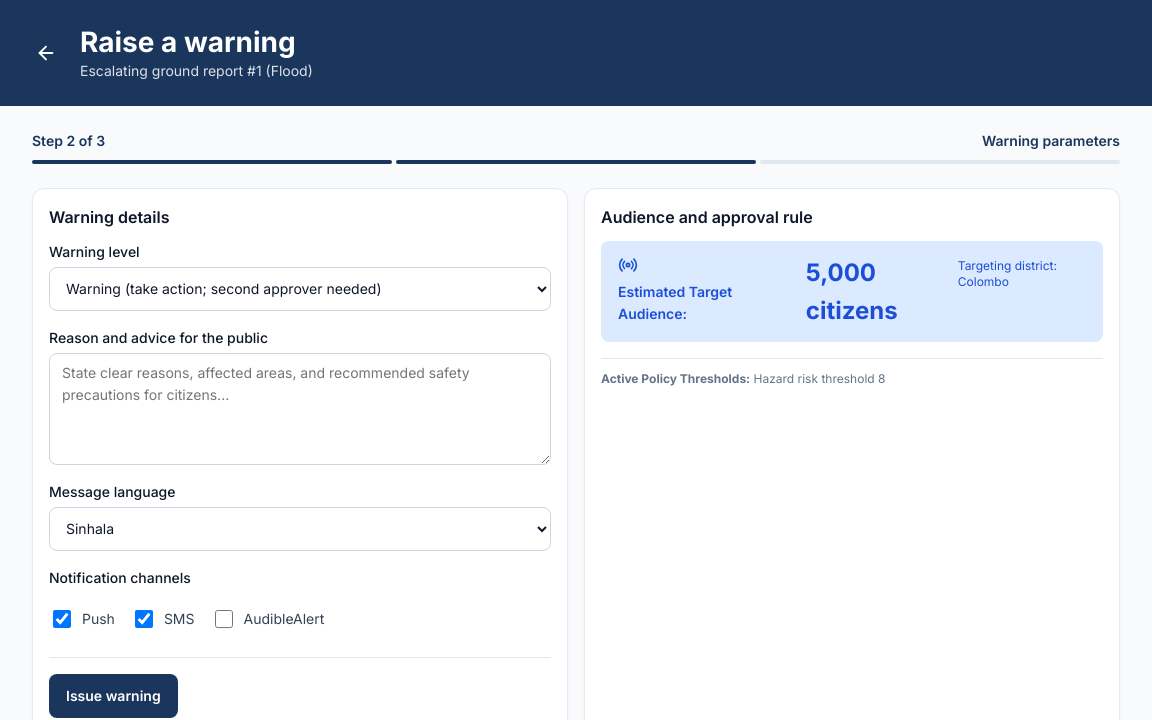
Scenario: WarningPreviewPage › should block a short reason and an empty channel list
Click the button "Issue warning". click: (113, 696)
box: [49,674,178,718]
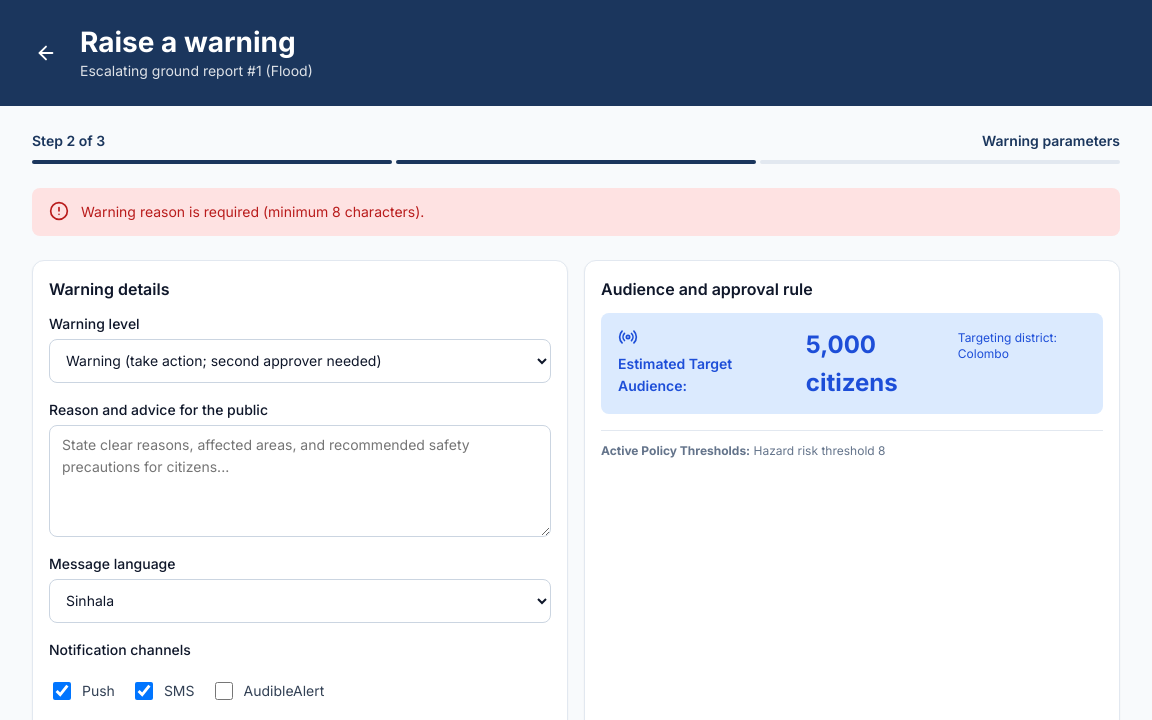
Expected: the text "Warning reason is required (minimum 8 characters)." is shown, [81,203,424,220]
Type "Water is over the road" into the text box labelled "Reason and advice for the public". click: (300, 481)
box: [49,425,551,537]
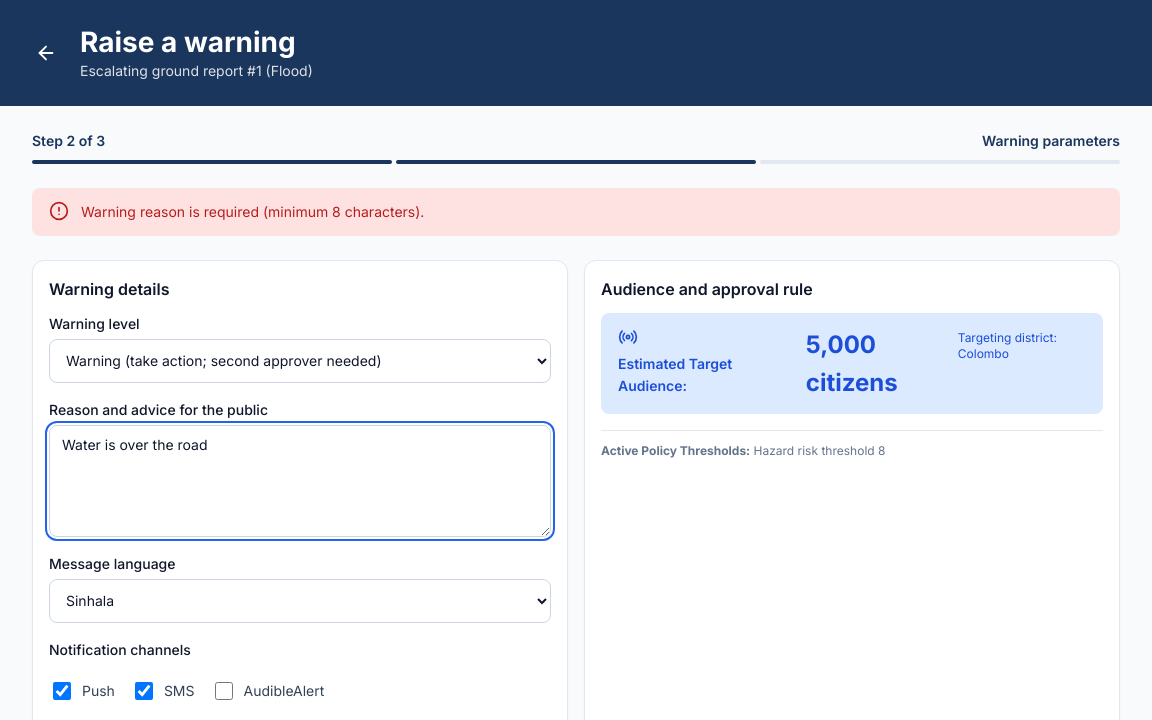
Click the checkbox labelled "Push". click: (62, 691)
box: [53,682,71,700]
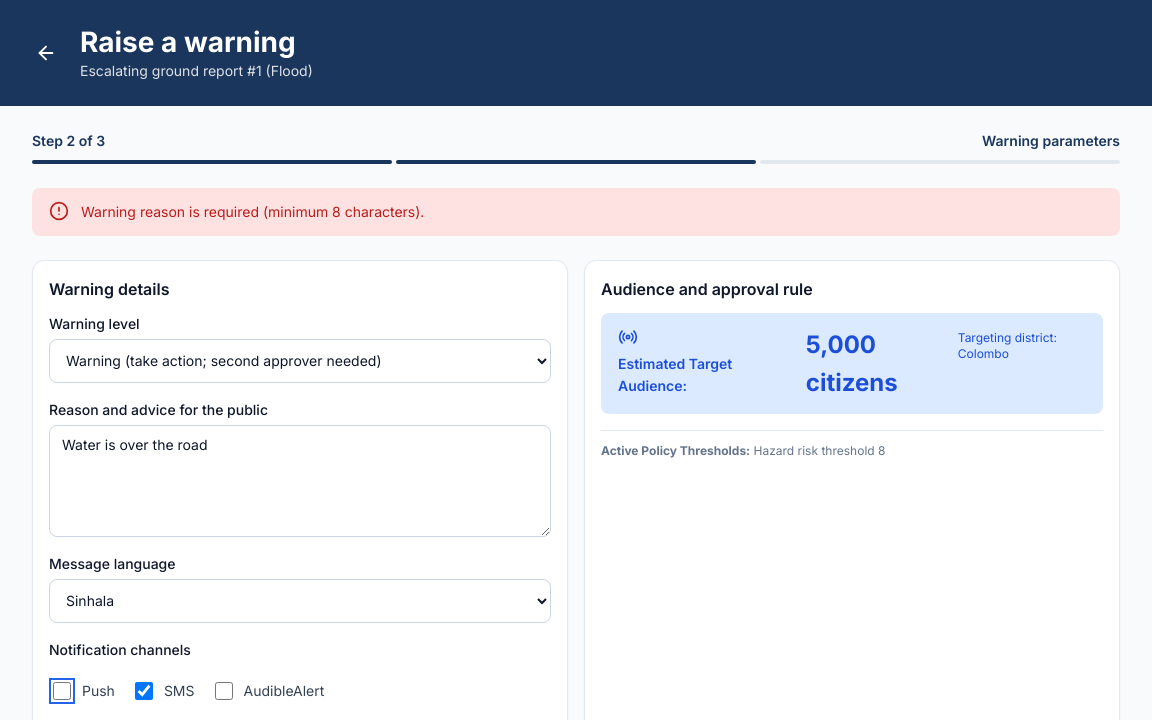
Click the checkbox labelled "SMS". click: (144, 691)
box: [135,682,153,700]
(page scrolled)
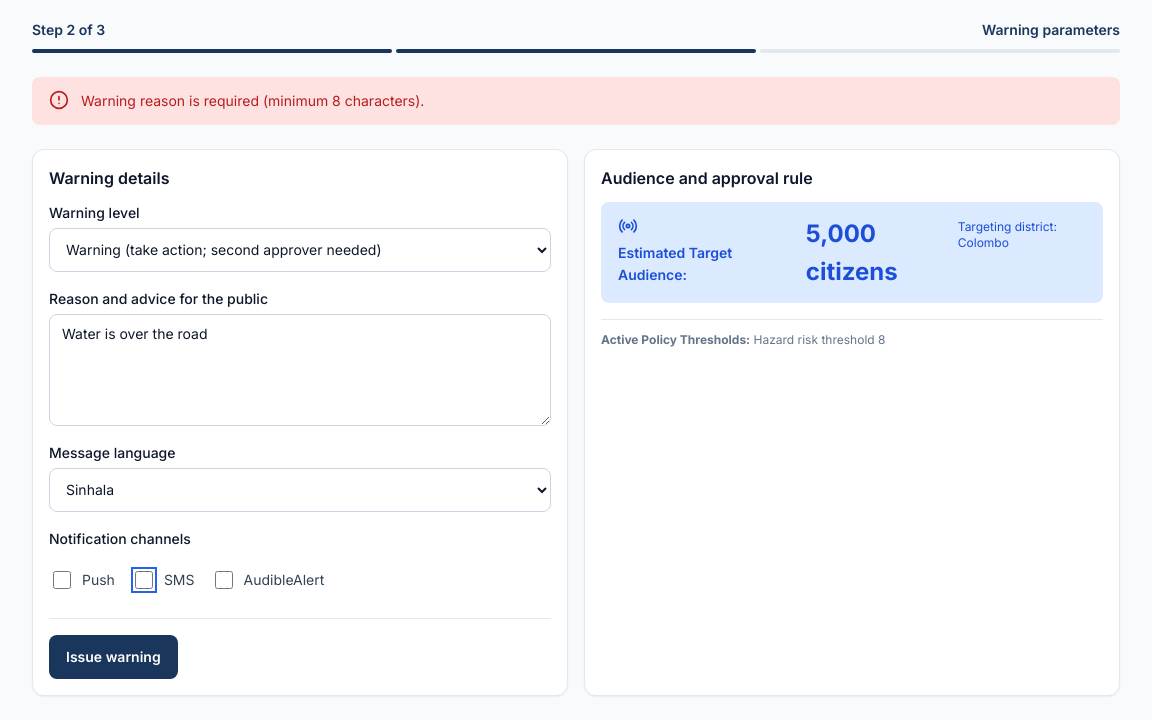
Click the button "Issue warning". click: (113, 657)
box: [49,635,178,679]
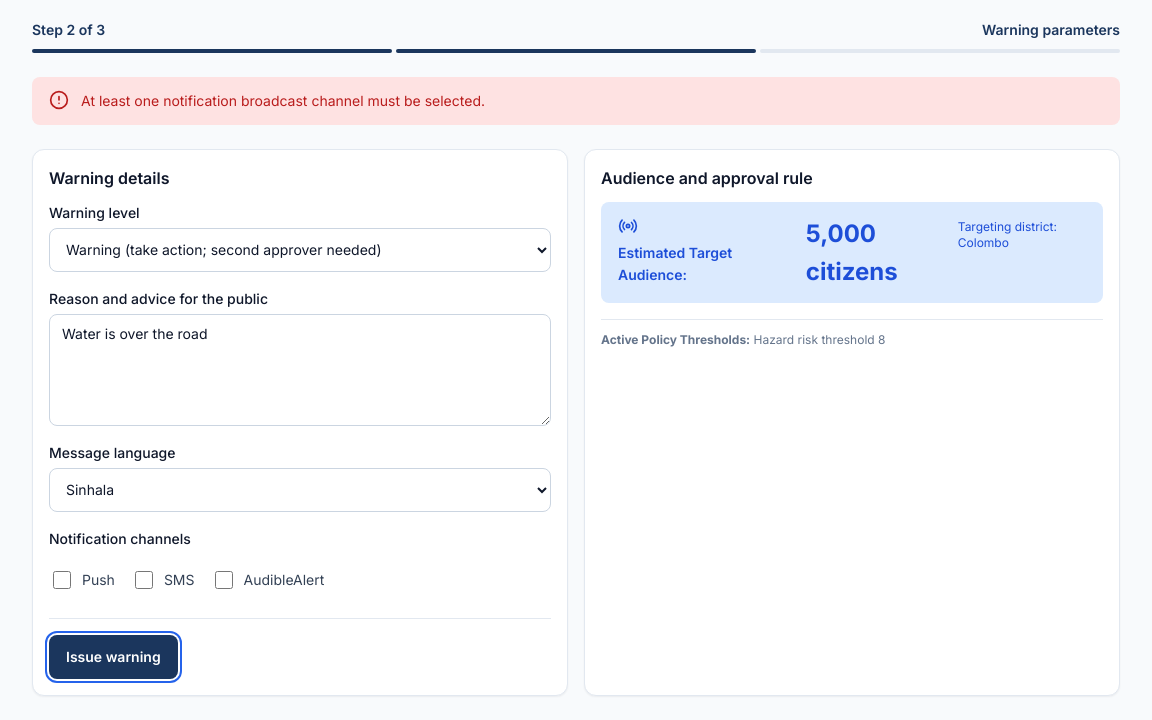
Expected: the text "At least one notification broadcast channel" is shown, [81,92,485,109]
